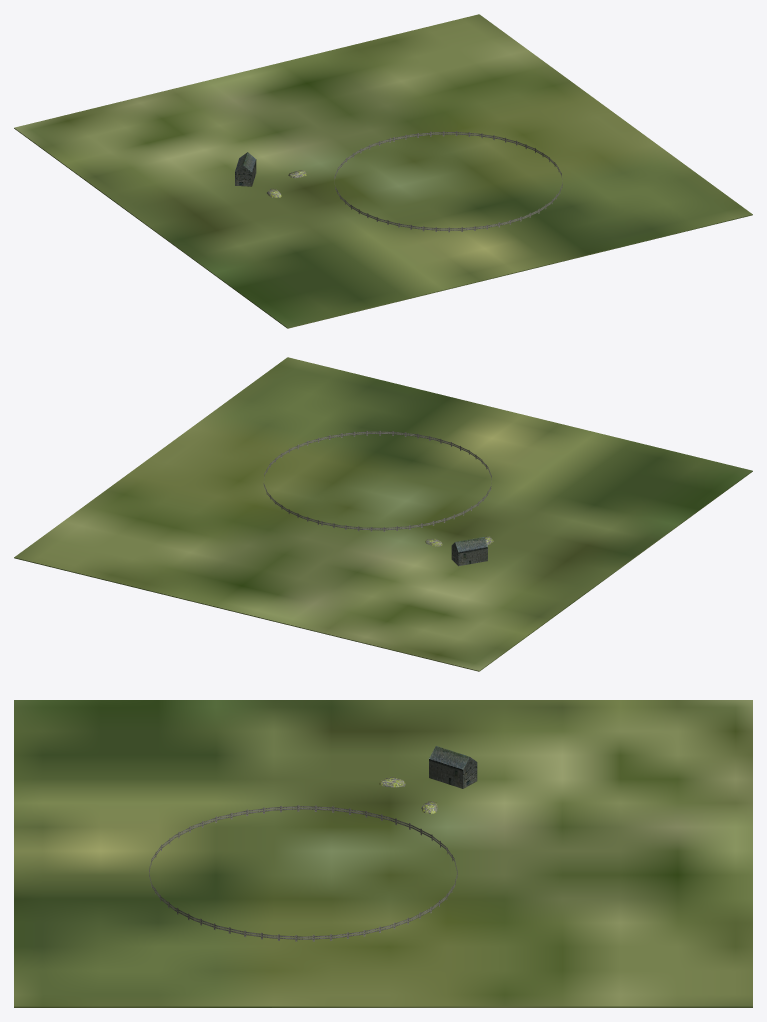
File: environment2.glb
3 renders of one model, top to bottom at view 1: azimuth 30°, elevation 25°; view 2: azimuth 150°, elevation 25°; view 3: azimuth 270°, elevation 25°, orthographic. The views are drawn at different scales.
Parts seen in each view (by area): view 1: CSGBox3D2, Cylinder, Cube; view 2: CSGBox3D2, Cylinder, Cube; view 3: CSGBox3D2, Cylinder, Cube.
Part boxes in pixels (bbox=[...]): CSGBox3D2: bbox=[14, 14, 752, 328]; Cylinder: bbox=[334, 131, 562, 232]; Cube: bbox=[235, 152, 256, 186]; CSGBox3D2: bbox=[14, 357, 752, 671]; Cylinder: bbox=[263, 431, 491, 531]; Cube: bbox=[451, 537, 487, 566]; CSGBox3D2: bbox=[14, 700, 752, 1007]; Cylinder: bbox=[149, 805, 457, 941]; Cube: bbox=[429, 746, 477, 788].
Bounding box in the file's own units: 624 × 33.61 × 636.
4 materials, 4 textured.
